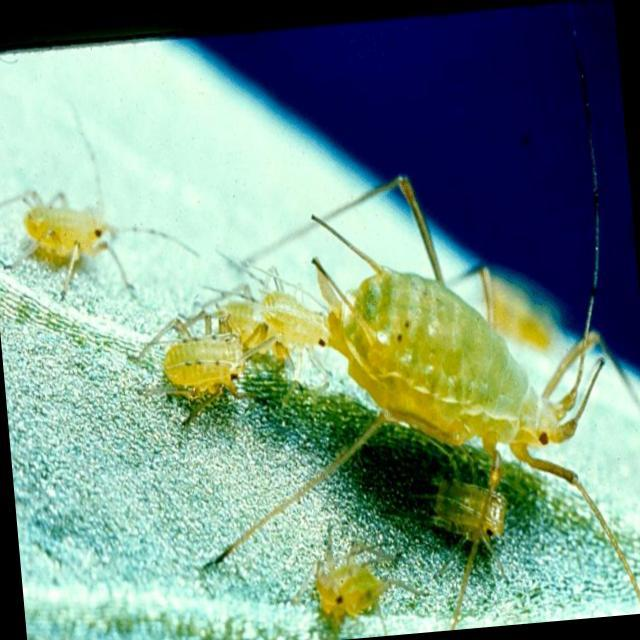aphid: (259, 193, 634, 528), (133, 304, 266, 416), (396, 464, 527, 562), (2, 183, 126, 285), (286, 530, 402, 638)
